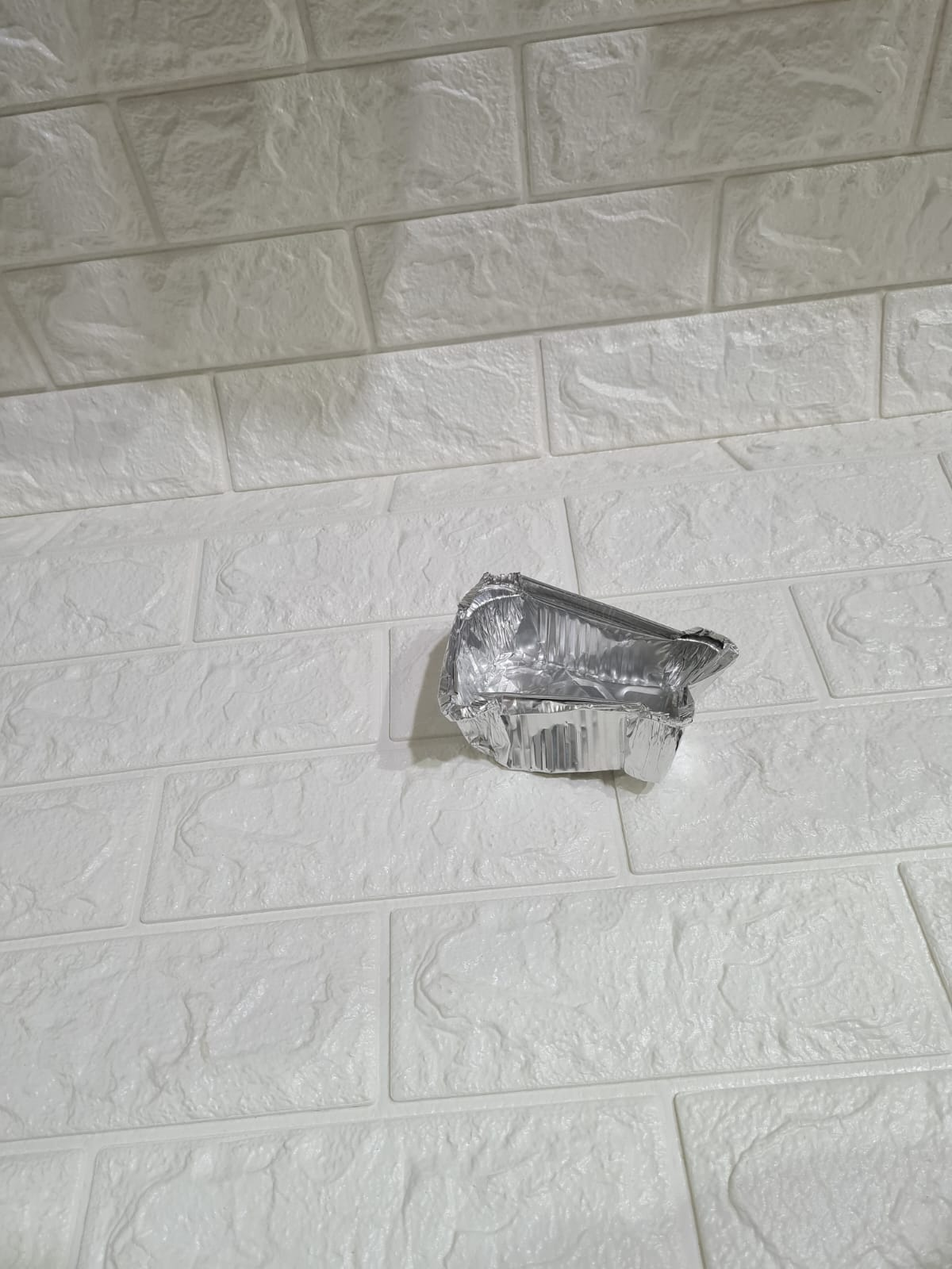Metal: (426, 585, 762, 773)
